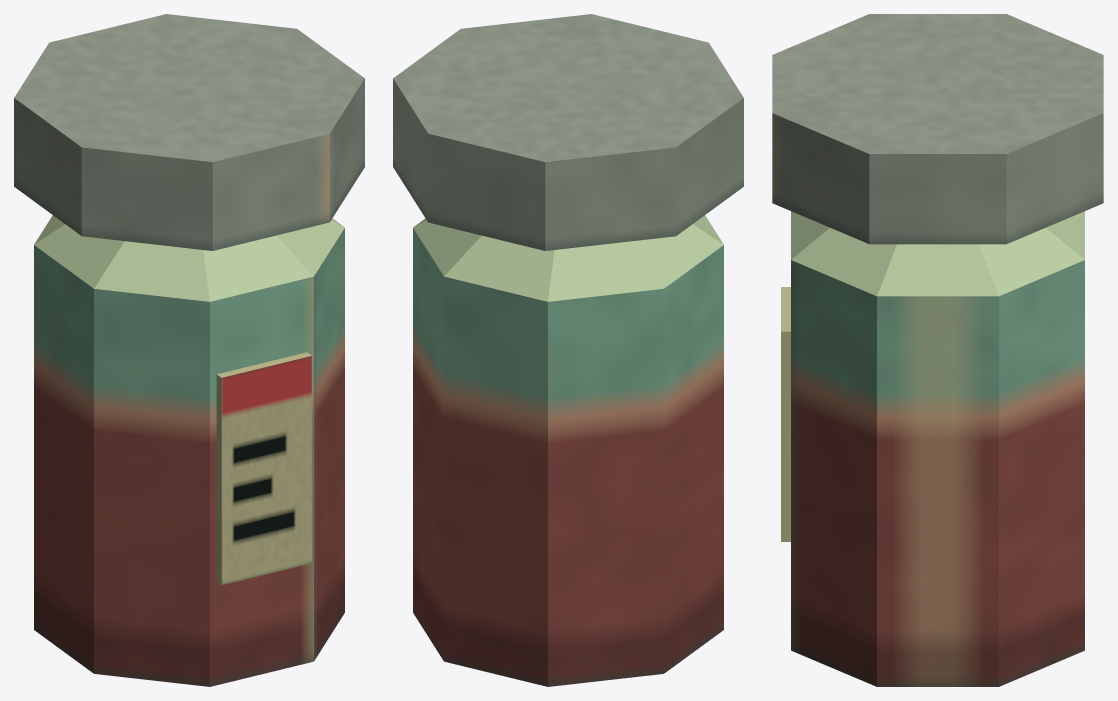
File: SM_LabPart_SampleVial_10x10x18.fbx
The picture shows the model from 3 angles, left to right: view 1: azimuth 30°, elevation 25°; view 2: azimuth 150°, elevation 25°; view 3: azimuth 270°, elevation 25°; orthographic projection.
Parts seen in each view (by area): view 1: SM_LabPart_SampleVial_10x10x18.001; view 2: SM_LabPart_SampleVial_10x10x18.001; view 3: SM_LabPart_SampleVial_10x10x18.001.
Part boxes in pixels (<box>): SM_LabPart_SampleVial_10x10x18.001: <box>14,14,364,686</box>; SM_LabPart_SampleVial_10x10x18.001: <box>393,14,743,686</box>; SM_LabPart_SampleVial_10x10x18.001: <box>772,14,1103,686</box>.
Bounding box in the file's own units: 0.1 × 0.18 × 0.1.
